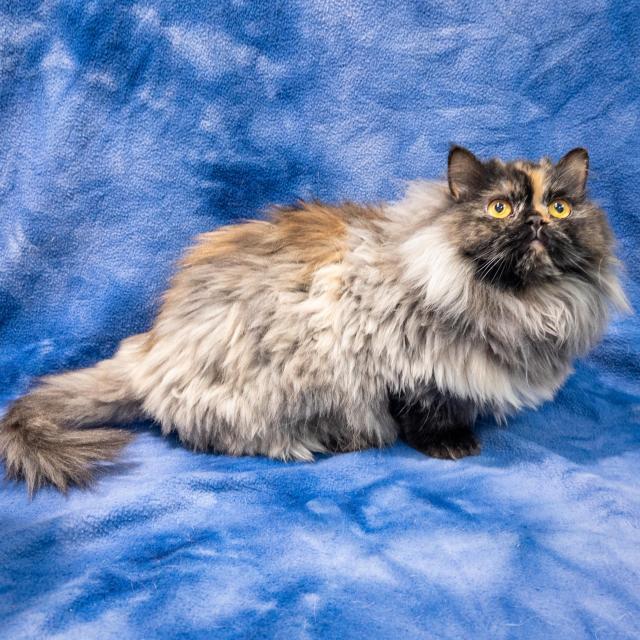persian_cat: (426, 132, 618, 334)
